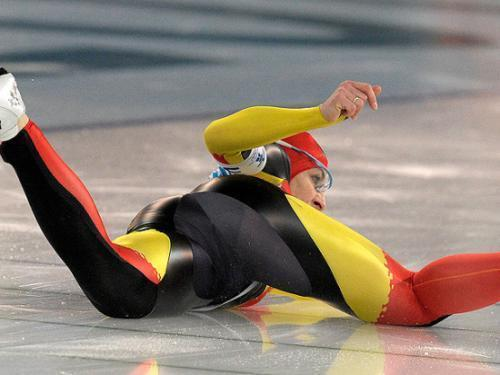Fall-Detected: (0, 36, 500, 337)
